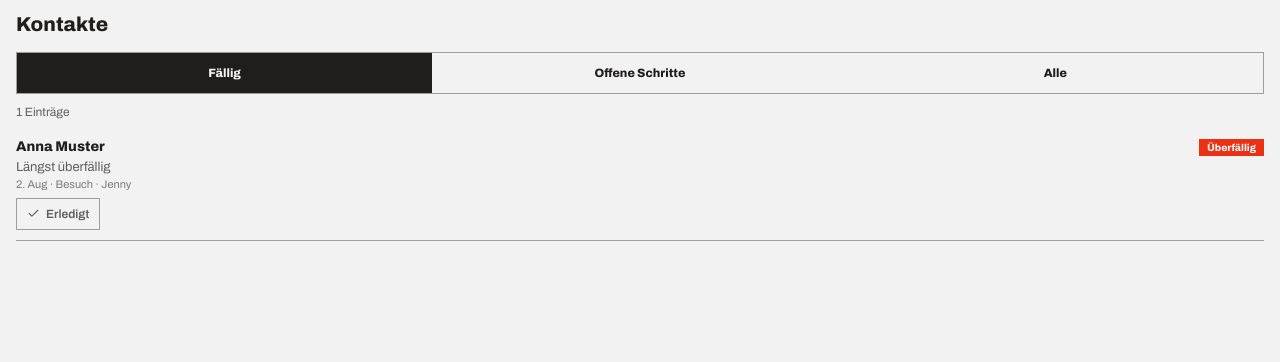
KontakteTabScreen (7.6) › zeigt im Sub-Tab "Alle" alle drei Einträge
expect the text "Anna Muster" is shown: met, box [16,139,105,154]
Click the button "Alle".
click(1055, 73)  # box [848,53,1263,93]
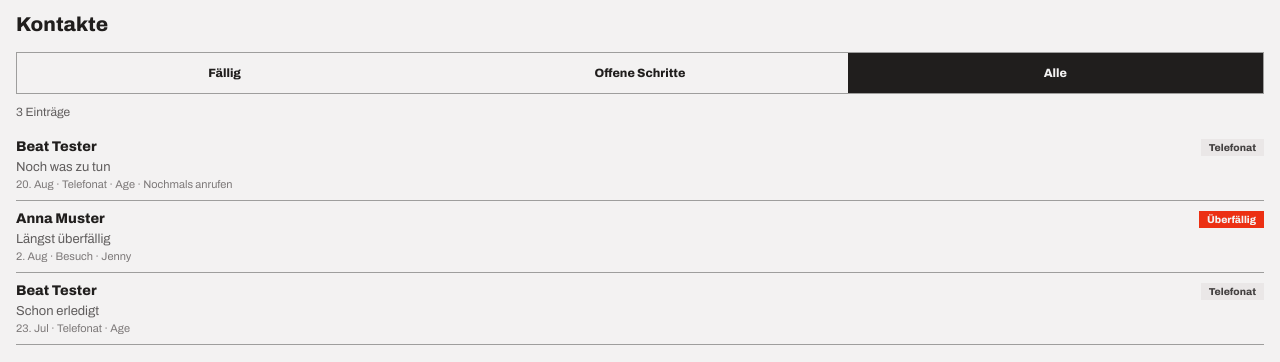
expect the text "Anna Muster" is shown: met, box [16,211,105,226]
expect the text "3 Einträge" is shown: met, box [16,105,70,119]
expect the text "Beat Tester" is shown 2 times: met, box [16,139,97,154]; [16,283,97,298]
